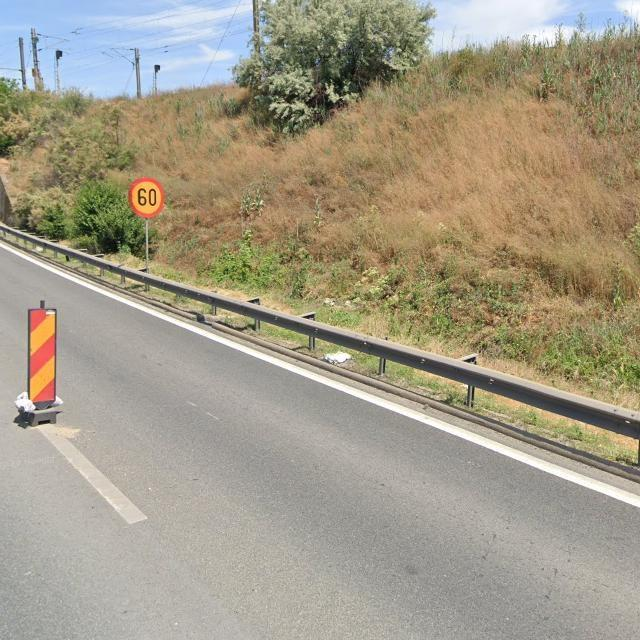forb_speed_over_60: (128, 178, 165, 219)
